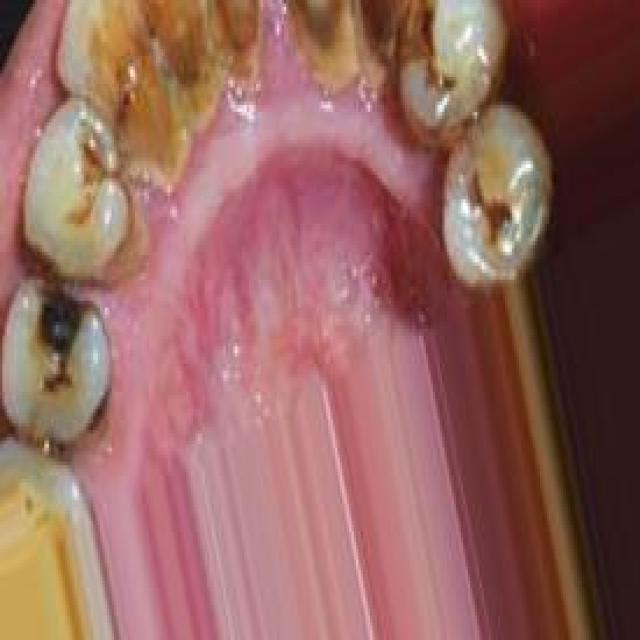caries: (27, 282, 97, 407), (456, 162, 520, 258), (404, 0, 455, 102), (61, 140, 102, 228)
